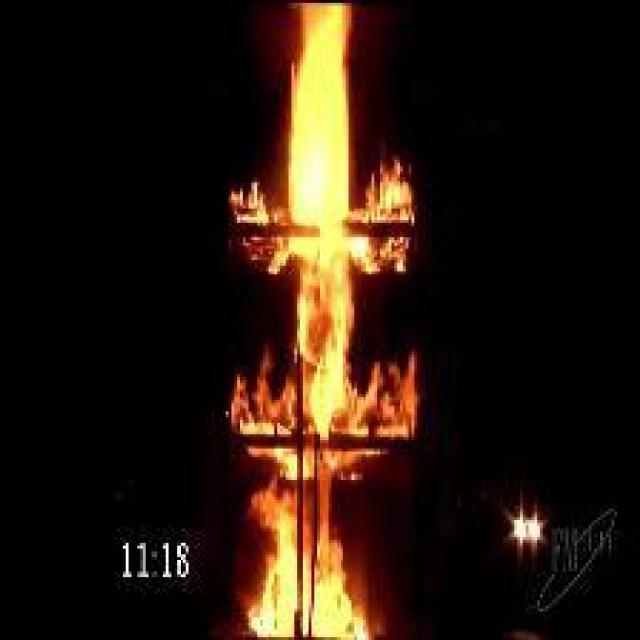fire: (212, 12, 414, 634)
other: (498, 500, 548, 552)
